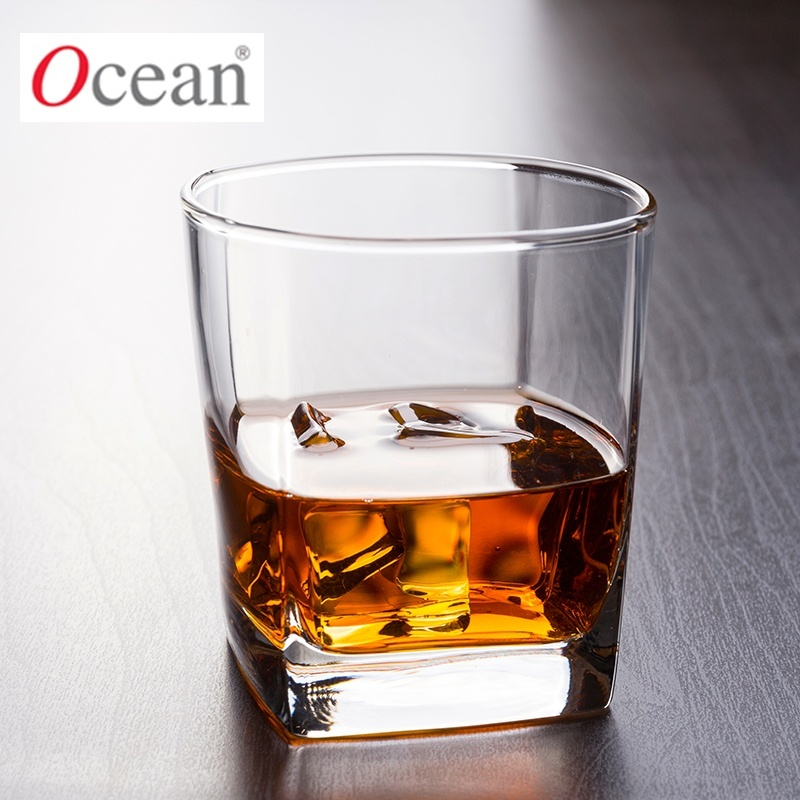whiskey: (183, 149, 639, 738)
